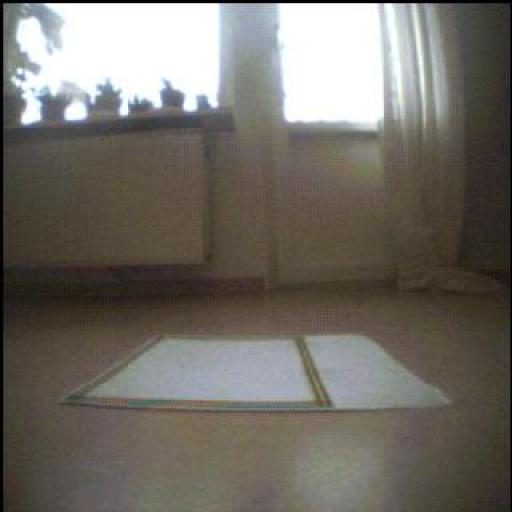Pad: (65, 336, 451, 413)
